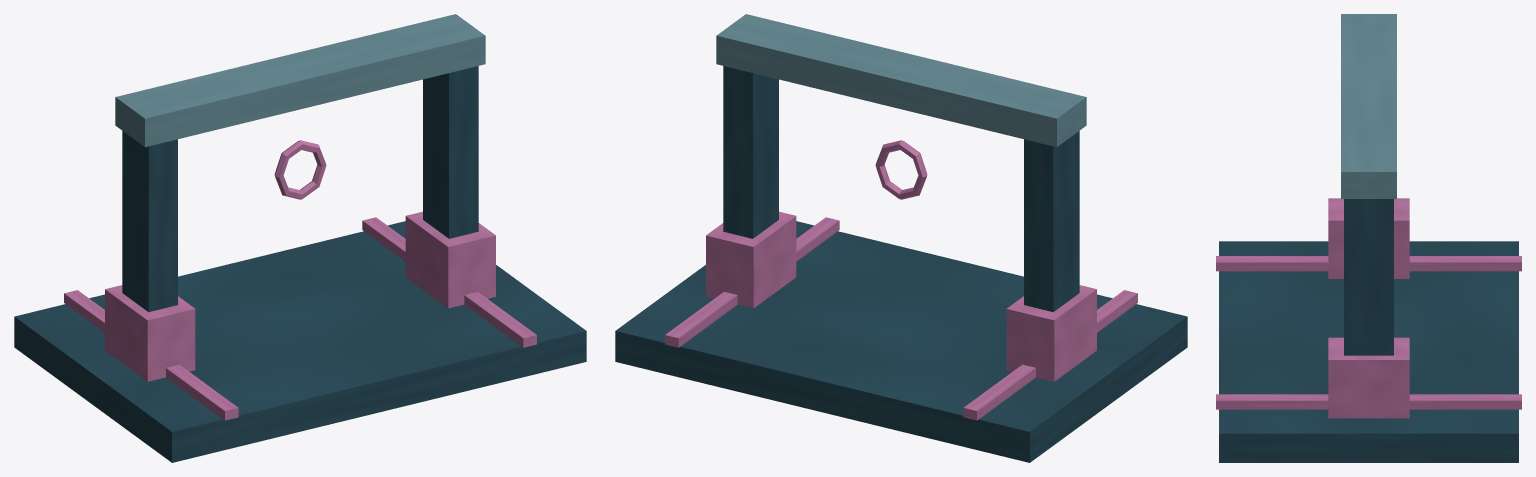
File: atlas100-s069-a02.lod2.glb
3 views of the same model, side by side, from view 1: azimuth 30°, elevation 25°; view 2: azimuth 150°, elevation 25°; view 3: azimuth 270°, elevation 25° (orthographic). The views are drawn at different scales.
Parts seen in each view (by area): view 1: atlas100-s069-a02:part-000, atlas100-s069-a02:part-007, atlas100-s069-a02:part-003, atlas100-s069-a02:part-005, atlas100-s069-a02:part-006, atlas100-s069-a02:part-004, atlas100-s069-a02:part-002, atlas100-s069-a02:part-001, atlas100-s069-a02:part-009; view 2: atlas100-s069-a02:part-000, atlas100-s069-a02:part-007, atlas100-s069-a02:part-003, atlas100-s069-a02:part-005, atlas100-s069-a02:part-006, atlas100-s069-a02:part-004, atlas100-s069-a02:part-002, atlas100-s069-a02:part-001, atlas100-s069-a02:part-009; view 3: atlas100-s069-a02:part-000, atlas100-s069-a02:part-007, atlas100-s069-a02:part-005, atlas100-s069-a02:part-006, atlas100-s069-a02:part-002, atlas100-s069-a02:part-001, atlas100-s069-a02:part-004.
Part boxes in pixels (bbox=[...]): atlas100-s069-a02:part-000: bbox=[14, 221, 586, 462]; atlas100-s069-a02:part-007: bbox=[115, 14, 485, 147]; atlas100-s069-a02:part-003: bbox=[122, 131, 177, 312]; atlas100-s069-a02:part-005: bbox=[423, 66, 478, 238]; atlas100-s069-a02:part-006: bbox=[405, 211, 495, 308]; atlas100-s069-a02:part-004: bbox=[105, 285, 195, 381]; atlas100-s069-a02:part-002: bbox=[362, 217, 536, 347]; atlas100-s069-a02:part-001: bbox=[64, 290, 238, 420]; atlas100-s069-a02:part-009: bbox=[274, 140, 326, 199]; atlas100-s069-a02:part-000: bbox=[615, 221, 1187, 462]; atlas100-s069-a02:part-007: bbox=[716, 14, 1086, 147]; atlas100-s069-a02:part-003: bbox=[1024, 131, 1079, 312]; atlas100-s069-a02:part-005: bbox=[723, 66, 778, 238]; atlas100-s069-a02:part-006: bbox=[706, 211, 796, 308]; atlas100-s069-a02:part-004: bbox=[1006, 285, 1096, 381]; atlas100-s069-a02:part-002: bbox=[665, 217, 839, 347]; atlas100-s069-a02:part-001: bbox=[963, 290, 1137, 420]; atlas100-s069-a02:part-009: bbox=[875, 140, 927, 199]; atlas100-s069-a02:part-000: bbox=[1219, 241, 1518, 462]; atlas100-s069-a02:part-007: bbox=[1341, 14, 1396, 198]; atlas100-s069-a02:part-005: bbox=[1344, 199, 1393, 355]; atlas100-s069-a02:part-006: bbox=[1328, 337, 1409, 418]; atlas100-s069-a02:part-002: bbox=[1216, 394, 1521, 409]; atlas100-s069-a02:part-001: bbox=[1216, 256, 1521, 271]; atlas100-s069-a02:part-004: bbox=[1328, 198, 1409, 278].
Size of the model in its own units: 3.64 by 2.42 by 2.45.
3 materials, 3 textured.
